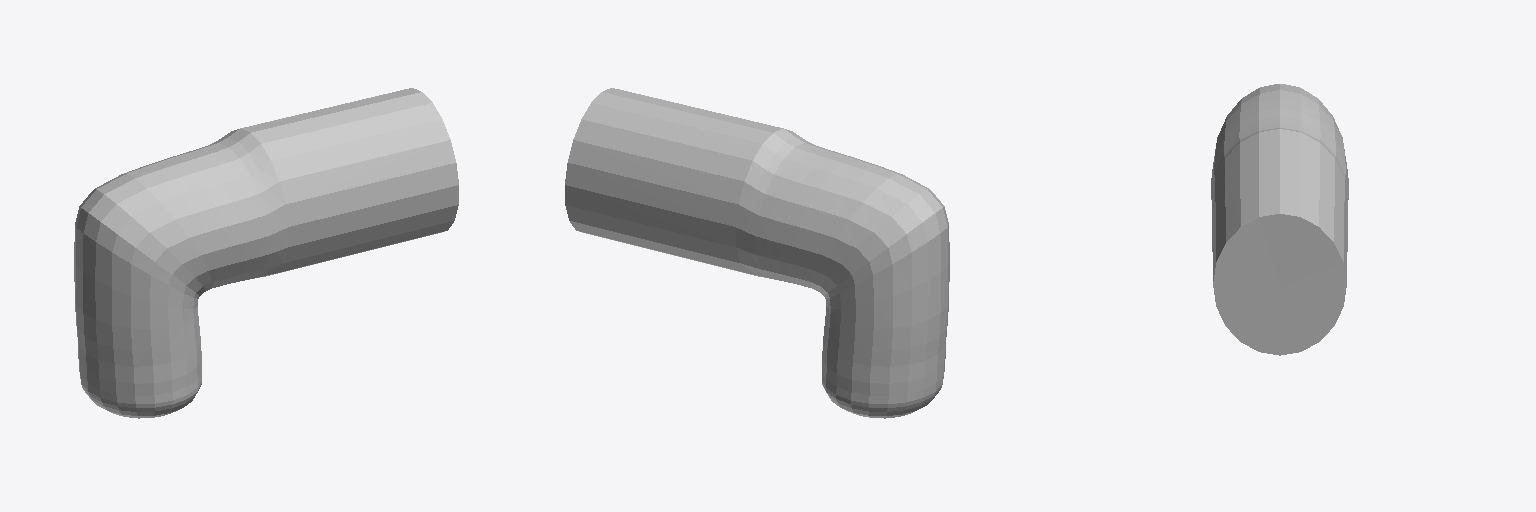
Rendered from Arm_L.obj.
The picture shows the model from 3 angles: view 1: azimuth 30°, elevation 25°; view 2: azimuth 150°, elevation 25°; view 3: azimuth 270°, elevation 25°; orthographic projection.
Visible parts, largest first — view 1: ARM_L; view 2: ARM_L; view 3: ARM_L.
Boxes of the visible parts, x1,y1,x2,y2 form: ARM_L: [74, 88, 458, 418]; ARM_L: [565, 88, 949, 418]; ARM_L: [1211, 84, 1348, 355].
Size of the model in its own units: 30.21 by 20.77 by 10.45.